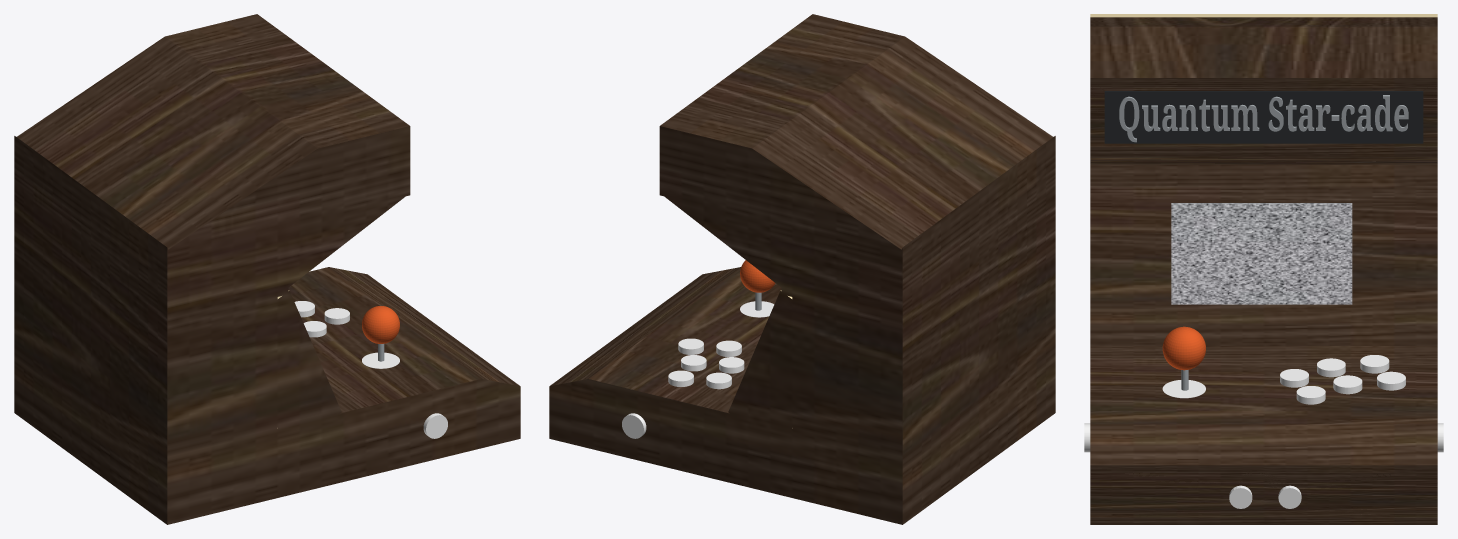
Rendered from Tiny Wooden arcade cabinet.glb.
3 renders of one model, left to right at view 1: azimuth 30°, elevation 25°; view 2: azimuth 150°, elevation 25°; view 3: azimuth 270°, elevation 25°, orthographic. The views are drawn at different scales.
Size of the model in its own units: 0.0162 by 0.0147 by 0.0124.
Materials: 8 (2 with a texture image).
